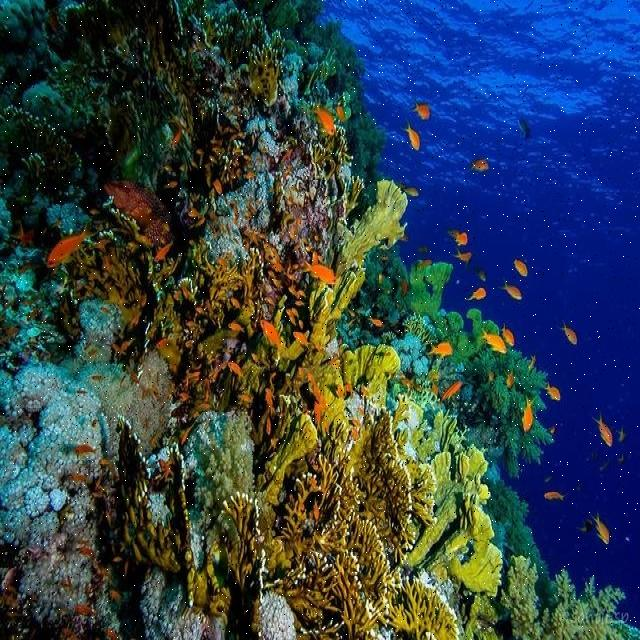fish: (47, 220, 99, 267), (260, 318, 288, 355), (303, 261, 336, 284), (313, 104, 335, 137), (593, 412, 612, 448), (401, 119, 421, 151), (481, 332, 507, 354), (592, 512, 609, 545), (154, 236, 175, 262), (522, 395, 536, 431), (440, 381, 464, 402), (499, 279, 522, 300), (426, 343, 453, 358), (293, 331, 313, 351), (559, 322, 577, 344), (413, 102, 431, 120), (500, 324, 514, 347), (228, 362, 244, 382), (467, 287, 487, 301), (545, 384, 561, 401), (312, 402, 321, 432), (514, 259, 528, 276), (455, 251, 472, 265), (544, 491, 565, 502), (471, 160, 489, 171), (403, 185, 419, 197), (455, 232, 468, 246)
reefs: (0, 0, 639, 639)
